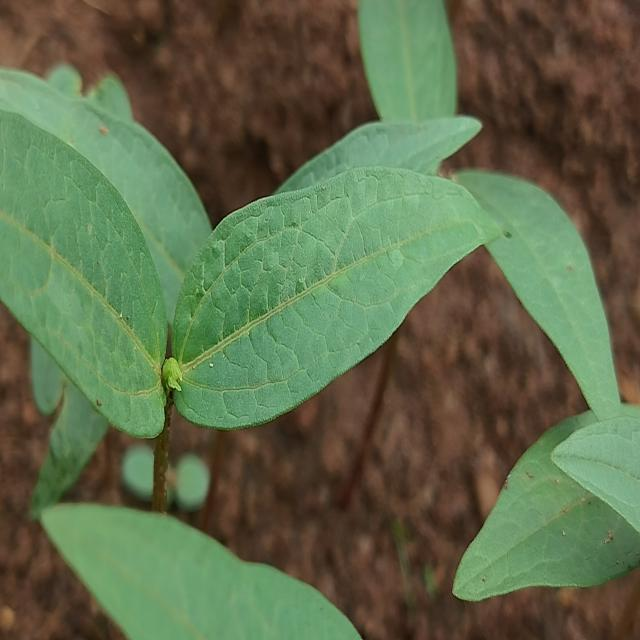Black gram_healthy: (174, 163, 517, 430), (0, 104, 165, 441), (445, 165, 631, 454), (39, 501, 368, 640), (447, 403, 639, 601)
